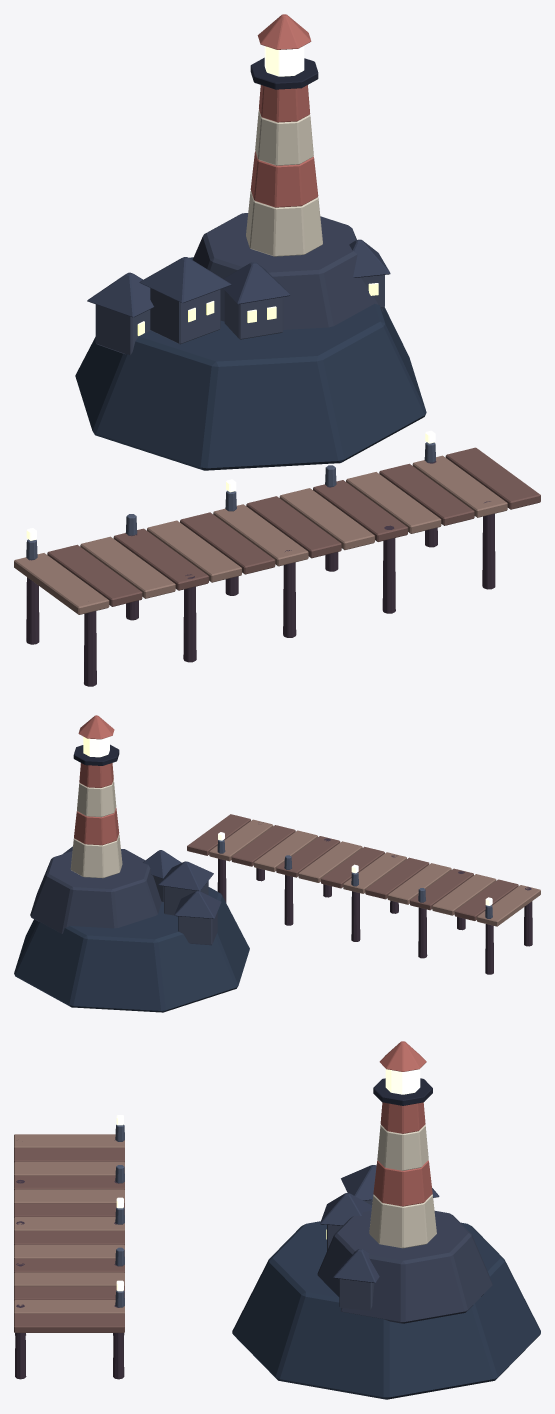
Rendered from harbor_lighthouse.glb.
3 renders of one model, top to bottom at view 1: azimuth 30°, elevation 25°; view 2: azimuth 150°, elevation 25°; view 3: azimuth 270°, elevation 25°, orthographic. The views are drawn at different scales.
Visible parts, largest first — view 1: LighthouseIsland_Merged, HarborRoot_Merged, LighthouseTower_Merged, Cottage_0_Merged, Cottage_1_Merged, Cottage_2_Merged, Cottage_3_Merged; view 2: LighthouseIsland_Merged, HarborRoot_Merged, LighthouseTower_Merged, Cottage_2_Merged, Cottage_0_Merged, Cottage_1_Merged; view 3: LighthouseIsland_Merged, HarborRoot_Merged, LighthouseTower_Merged, Cottage_3_Merged, Cottage_1_Merged, Cottage_0_Merged.
Part boxes in pixels (box(x1,y1,x2,y2)): LighthouseIsland_Merged: box(75, 213, 426, 470); HarborRoot_Merged: box(14, 430, 540, 686); LighthouseTower_Merged: box(246, 14, 322, 256); Cottage_0_Merged: box(139, 257, 231, 344); Cottage_1_Merged: box(223, 262, 290, 339); Cottage_2_Merged: box(87, 272, 153, 355); Cottage_3_Merged: box(349, 239, 390, 308); LighthouseIsland_Merged: box(14, 849, 249, 1012); HarborRoot_Merged: box(187, 814, 540, 974); LighthouseTower_Merged: box(70, 715, 122, 878); Cottage_2_Merged: box(174, 891, 221, 945); Cottage_0_Merged: box(158, 861, 213, 915); Cottage_1_Merged: box(143, 850, 181, 902); LighthouseIsland_Merged: box(232, 1210, 540, 1399); HarborRoot_Merged: box(14, 1115, 124, 1379); LighthouseTower_Merged: box(369, 1041, 436, 1248); Cottage_3_Merged: box(333, 1249, 379, 1310); Cottage_1_Merged: box(320, 1193, 371, 1250); Cottage_0_Merged: box(341, 1165, 376, 1205).
Bounding box in the file's own units: 16.49 × 11.59 × 16.12.
